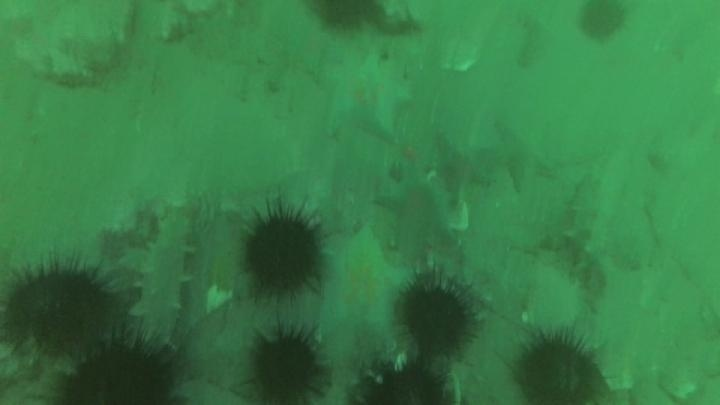echinus: (1, 254, 120, 360), (51, 330, 183, 404), (240, 207, 326, 298), (511, 330, 608, 404), (396, 275, 479, 359), (245, 325, 327, 404), (351, 355, 453, 405), (309, 1, 387, 35), (575, 1, 629, 45)
holothurian: (128, 205, 200, 349), (562, 172, 612, 301)
scallop: (434, 31, 483, 75)
starfish: (314, 225, 414, 347), (319, 49, 414, 141), (372, 166, 460, 256), (251, 7, 339, 85), (473, 119, 558, 193), (431, 131, 499, 203)
